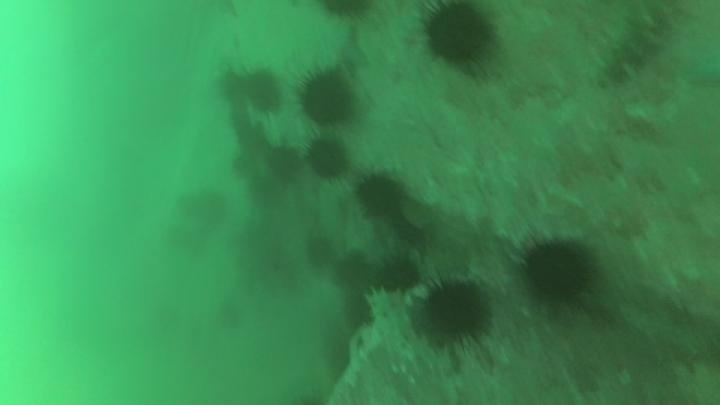echinus: (518, 235, 598, 308), (419, 274, 494, 348), (418, 2, 498, 70), (295, 65, 359, 129), (355, 171, 407, 220), (178, 186, 231, 229), (320, 325, 357, 384), (305, 135, 351, 182), (240, 67, 284, 115), (375, 253, 423, 295), (332, 249, 375, 291), (340, 289, 376, 334), (263, 144, 303, 184), (213, 66, 252, 107), (316, 0, 378, 24), (390, 214, 431, 249), (303, 232, 337, 270)
holothurian: (592, 5, 664, 86), (362, 285, 420, 372)
starfish: (324, 26, 371, 76)
